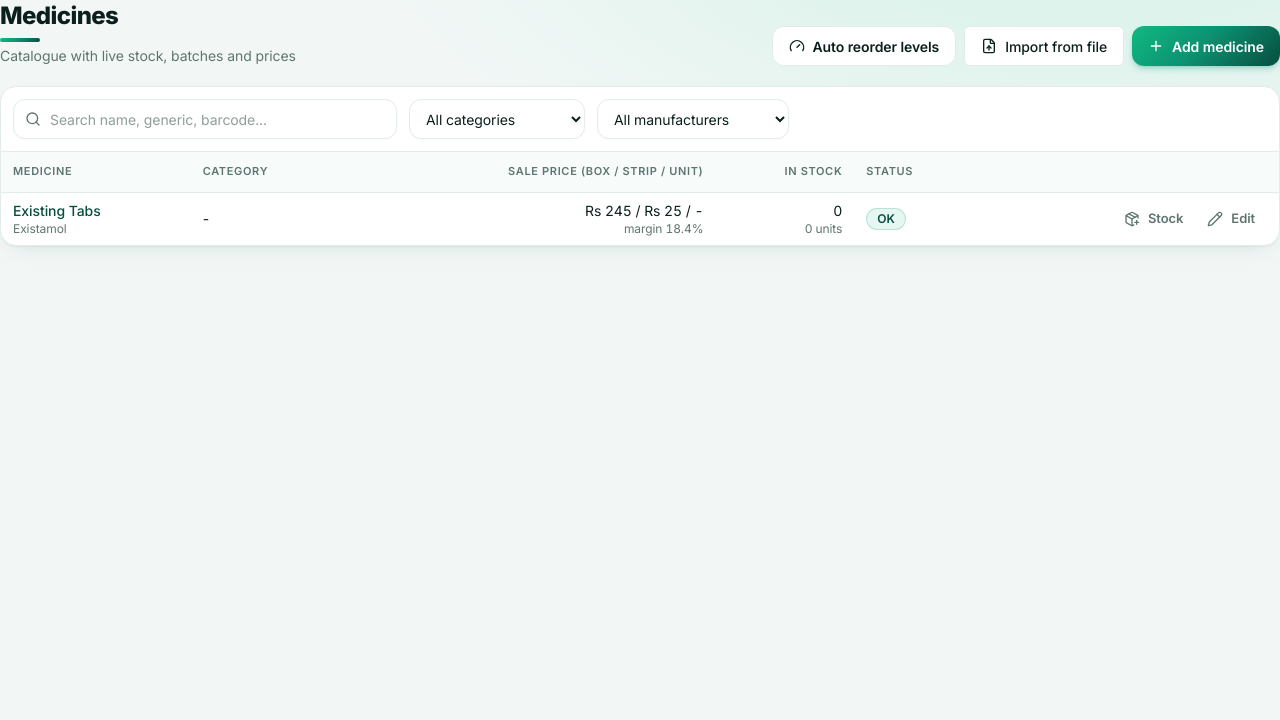
Test: automatic prices in the medicine form › changing the pack changes the automatic prices and the pack sentence
This screenshot has width=1280, height=720.
Click the button "Add medicine" at x=1206, y=46, box [1132,26,1279,66]
(page scrolled)
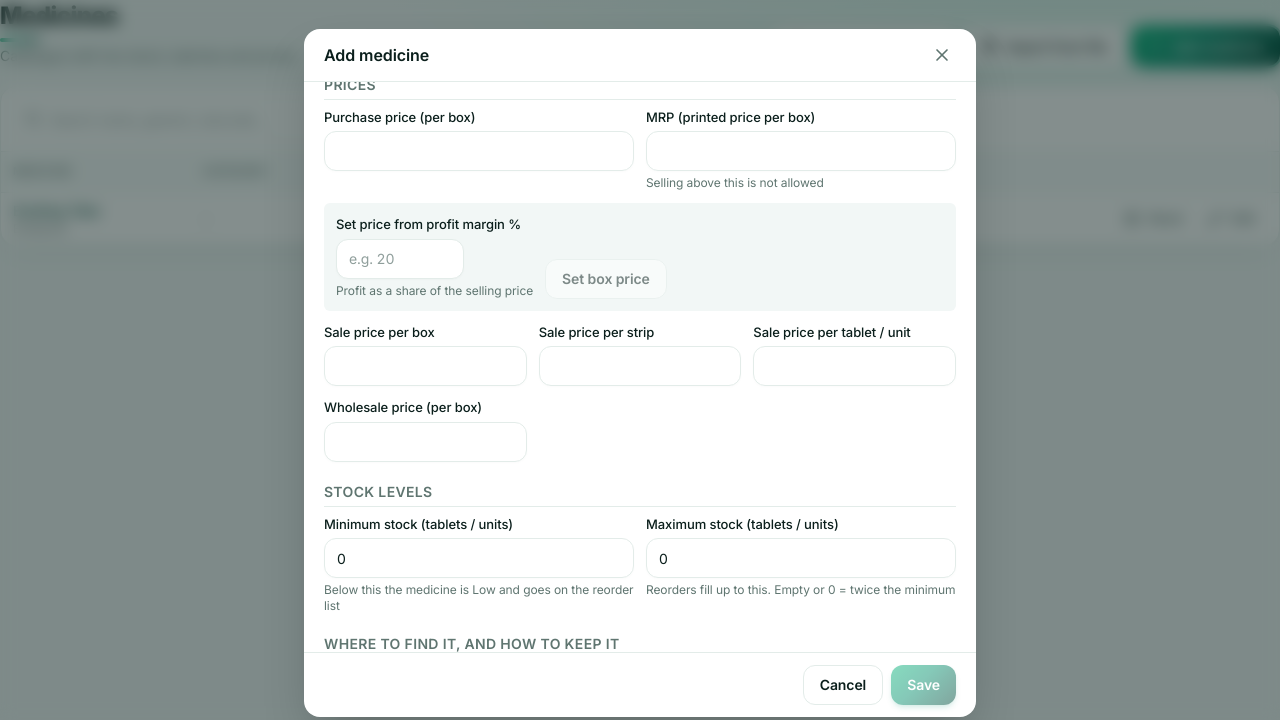
Type "200" into the number field labelled "Sale price per box" at x=425, y=366, box [324,346,527,386]
(page scrolled)
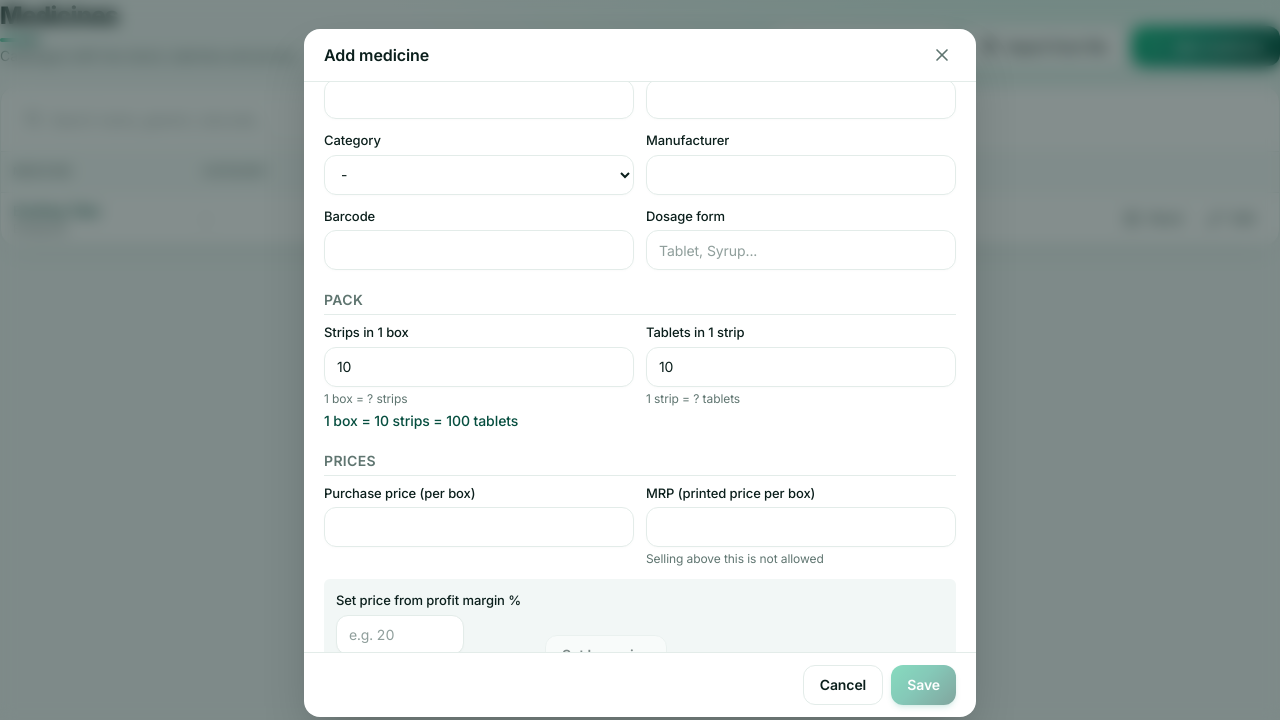
Replace the text in the number field labelled "Strips in 1 box 1 box = ? strips" with "5" at x=479, y=367, box [324,347,634,387]
(page scrolled)
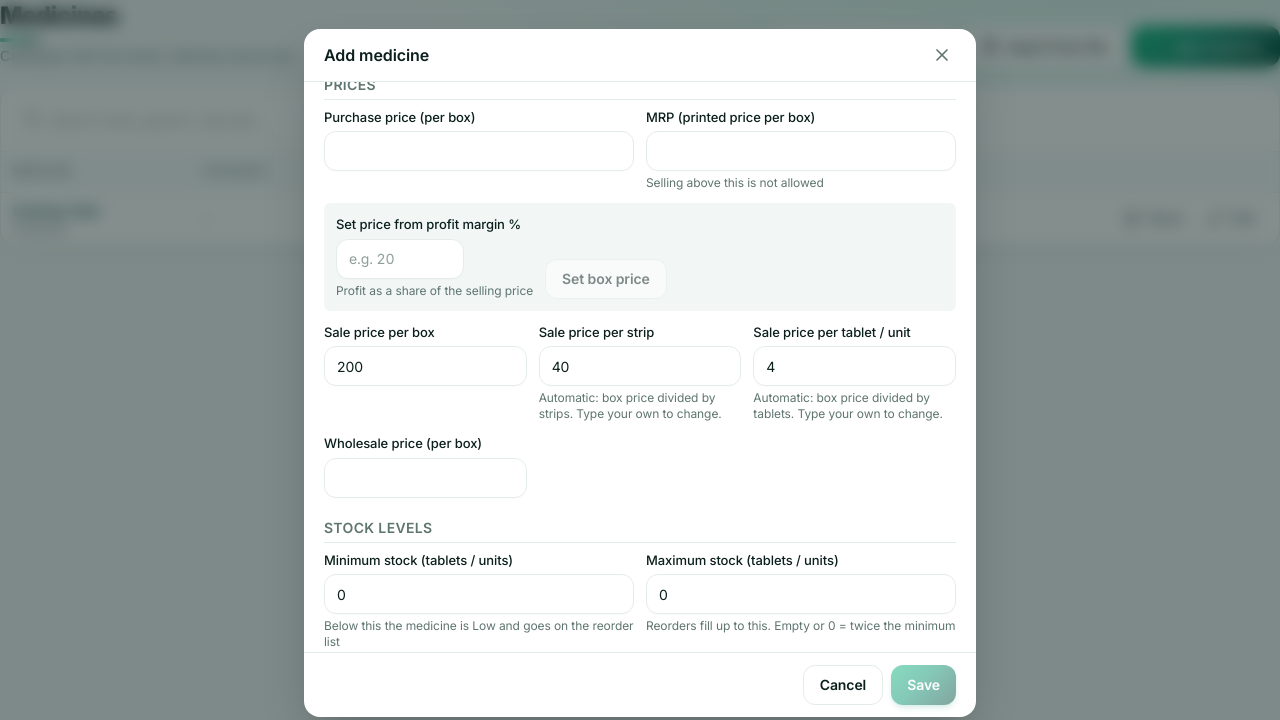
Expected: the number field labelled "Sale price per strip" holds "40", [539,346,741,386]
Expected: the number field labelled "Sale price per tablet" holds "4", [753,346,956,386]
